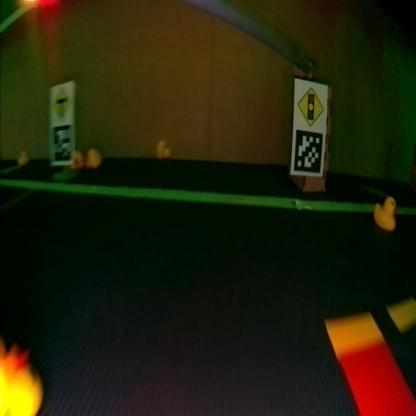Duckie: (2, 343, 44, 413), (375, 195, 398, 229), (87, 147, 102, 168), (158, 140, 172, 158), (72, 150, 84, 168), (18, 150, 29, 164)
Intersection sign: (51, 82, 75, 122)
QR code: (293, 132, 323, 172), (52, 126, 74, 162)
Signal sign: (296, 84, 326, 126)
